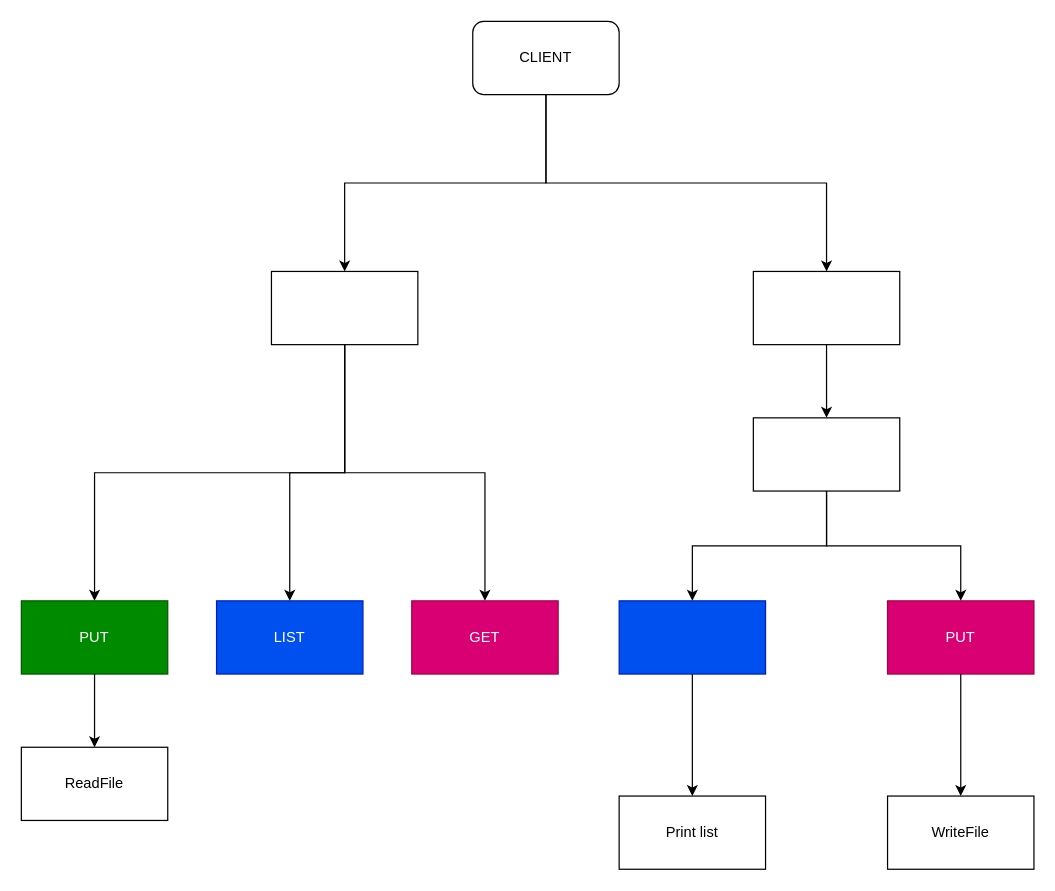
Image size: 1055x891. Some labels were removed from this diagram. Each missing label, with the centre of its shape:
"Decode (message)" belongs at pixel 826 454.
"LIST_REPLY" belongs at pixel 692 637.
"Receive ( socket )" belongs at pixel 826 307.
"Send ( socket )" belongs at pixel 344 307.
